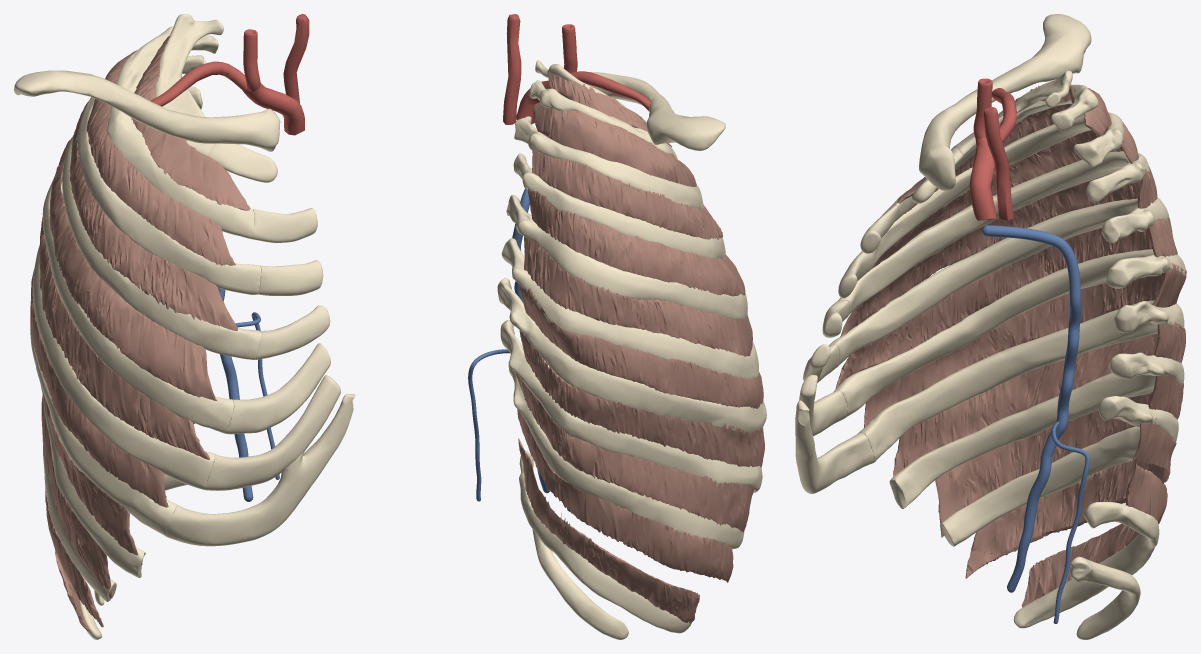
File: thorax-16.glb
3 renders of one model, left to right at view 1: azimuth 30°, elevation 25°; view 2: azimuth 150°, elevation 25°; view 3: azimuth 270°, elevation 25°, orthographic. The views are drawn at different scales.
Visible parts, largest first — view 1: FJ1451, FJ3362, FJ3345, FJ3344, FJ3338, FJ3340, FJ3336, FJ3342, FJ3343, FJ3346, FJ3341, FJ3334 (+11 smaller); view 2: FJ1451, FJ3346, FJ3347, FJ3344, FJ3342, FJ3348, FJ3340, FJ3331, FJ3338, FJ3362, FJ3332, FJ3336 (+7 smaller); view 3: FJ1451, FJ3346, FJ3342, FJ3344, FJ3347, FJ3340, FJ3348, FJ3362, FJ3416, FJ3338, FJ3331, FJ3345 (+13 smaller).
Part boxes in pixels (x1,y1,x2,y2): FJ1451: (30, 35, 250, 631); FJ3362: (14, 70, 280, 151); FJ3345: (166, 394, 355, 546); FJ3344: (32, 204, 214, 489); FJ3338: (77, 55, 261, 294); FJ3340: (62, 86, 261, 359); FJ3336: (107, 26, 254, 238); FJ3342: (42, 181, 233, 433); FJ3343: (204, 375, 340, 490); FJ3346: (30, 327, 177, 536); FJ3341: (225, 343, 330, 434); FJ3334: (155, 14, 223, 156); FJ1451: (515, 72, 764, 623); FJ3346: (497, 277, 766, 433); FJ3347: (500, 319, 762, 492); FJ3344: (501, 238, 758, 378); FJ3342: (506, 195, 747, 319); FJ3348: (508, 361, 744, 549); FJ3340: (513, 153, 725, 258); FJ3331: (519, 450, 691, 633); FJ3338: (514, 116, 703, 209); FJ3362: (587, 72, 725, 150); FJ3332: (532, 529, 628, 639); FJ3336: (529, 80, 677, 159); FJ1451: (835, 84, 1186, 607); FJ3346: (858, 300, 1184, 463); FJ3342: (828, 197, 1168, 367); FJ3344: (833, 249, 1185, 417); FJ3347: (889, 352, 1184, 508); FJ3340: (838, 151, 1149, 318); FJ3348: (940, 396, 1178, 546); FJ3362: (919, 14, 1091, 190); FJ3416: (982, 225, 1081, 592); FJ3338: (869, 112, 1123, 270); FJ3331: (1013, 501, 1159, 628); FJ3345: (795, 400, 874, 493).
Bounding box in the file's own units: 0.1948 × 0.3656 × 0.2099.
